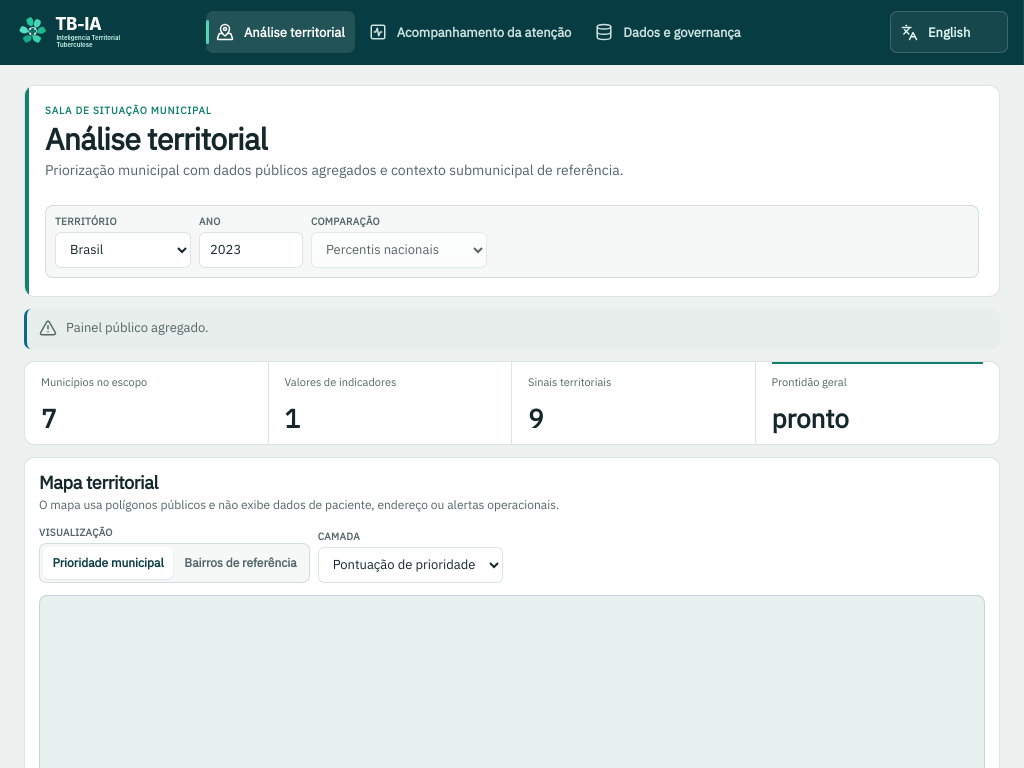
App › renders the operational queue through the product route
Click the link "Acompanhamento da atenção". click: x=470, y=32
box: x1=369 y1=23 x2=571 y2=41
(page scrolled)
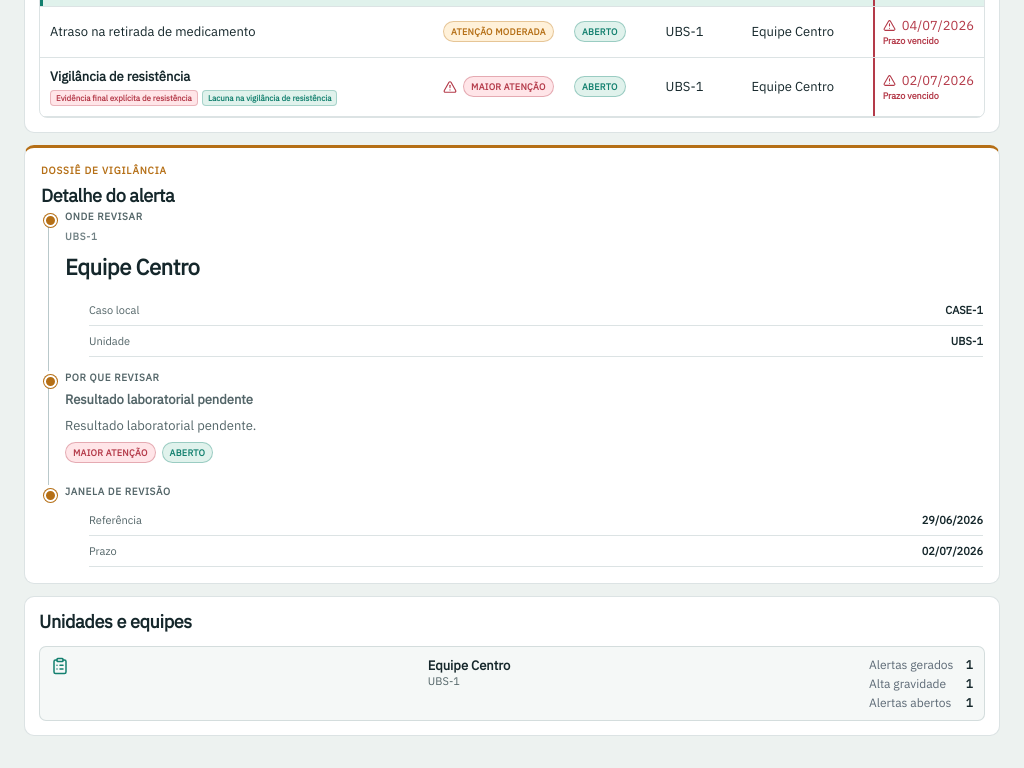
Expected: the element "Unidades e equipes" is shown, x1=24 y1=596 x2=1000 y2=736
